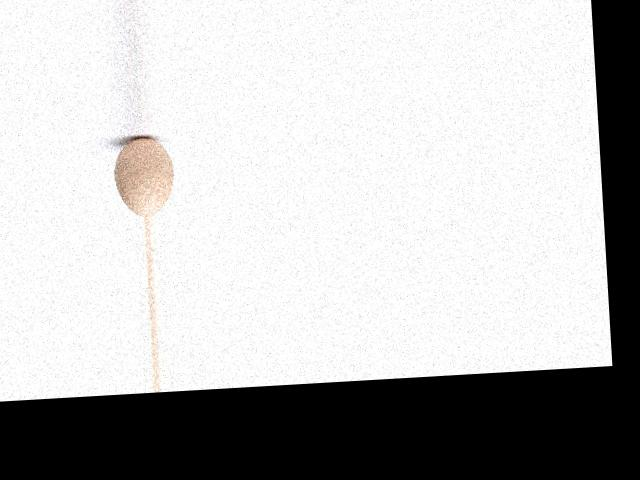egg: (113, 135, 175, 217)
